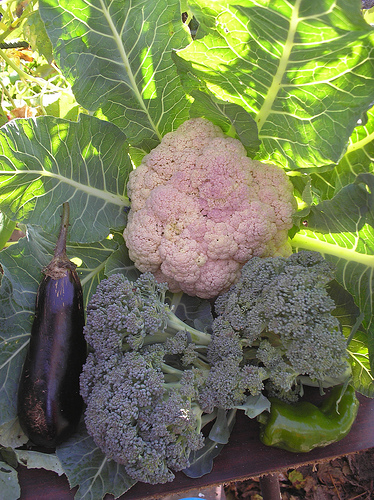eggplant: (18, 219, 83, 446)
